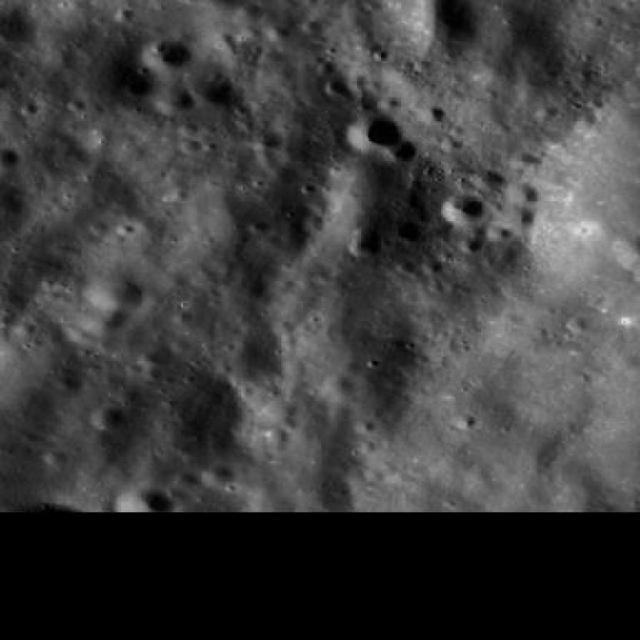crater: (177, 168, 316, 266), (321, 144, 452, 238), (294, 317, 422, 408), (0, 321, 95, 404), (398, 0, 486, 60), (290, 473, 356, 519), (86, 274, 143, 316), (347, 113, 402, 153), (118, 488, 171, 526), (142, 36, 192, 72), (188, 70, 234, 104), (0, 7, 35, 47), (83, 306, 125, 334), (443, 194, 483, 223), (154, 86, 194, 114), (498, 205, 537, 233), (348, 228, 384, 254), (202, 464, 235, 488), (506, 182, 539, 205), (92, 408, 125, 430), (382, 140, 415, 162), (326, 374, 356, 396), (125, 76, 153, 96), (418, 104, 446, 124), (474, 170, 502, 190), (256, 130, 282, 150), (174, 472, 200, 490), (56, 374, 82, 392), (513, 152, 539, 170), (266, 428, 291, 446), (273, 399, 298, 416), (486, 222, 509, 240), (324, 77, 348, 94), (460, 237, 483, 252)
